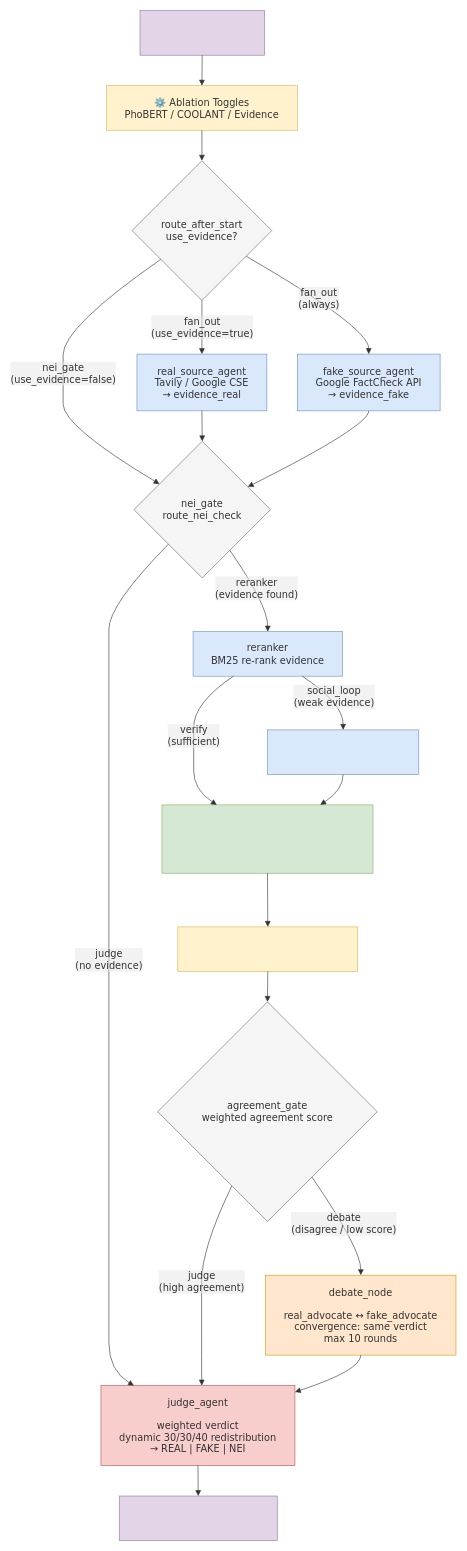
The diagram is 467 pixels wide and 1551 high, and some of its shapes have lost their labels. The shapes that lost their labels are listed below. From the top down, each one's centre as x and y in pixels, then its label:
point 201,32: 📝 Claim + Image (user input)
point 343,751: social_loop_agent additional social search
point 267,838: verify_agent PhoBERT (text) || COOLANT (image) → model_results
point 267,948: 🔘 use_phobert / use_coolant skip disabled models
point 198,1518: ✅ Verdict + Explanation REAL / FAKE / NEI
